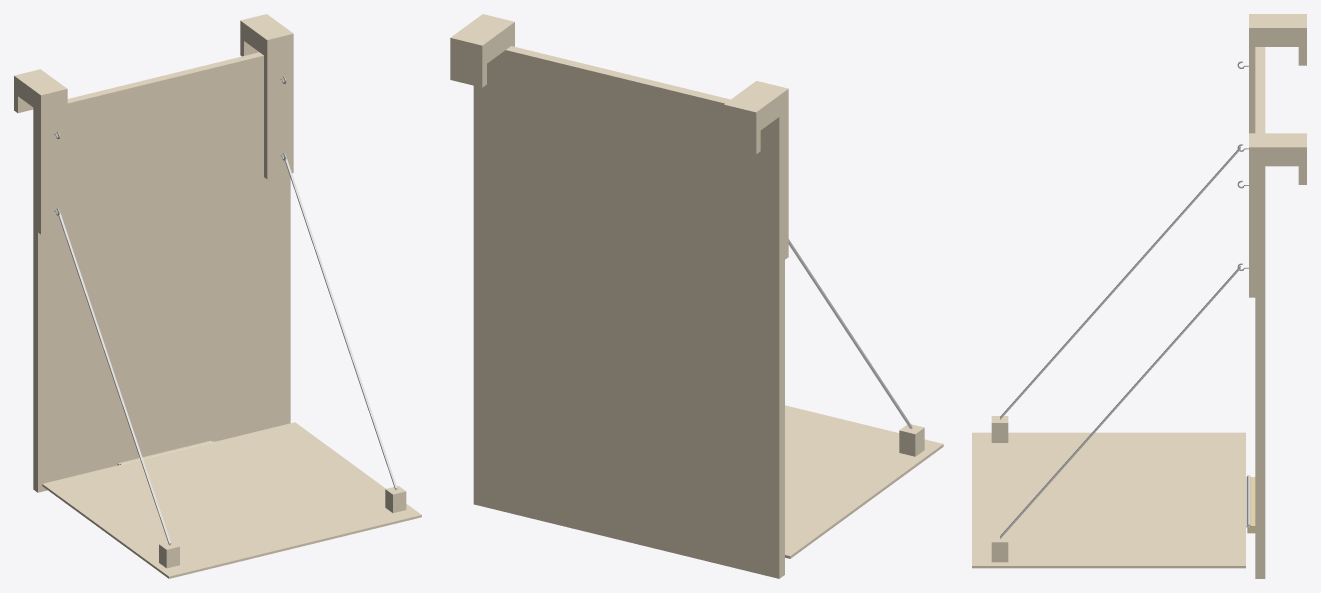
The model's file is object-project-hay-bag.glb.
3 renders of one model, left to right at view 1: azimuth 30°, elevation 25°; view 2: azimuth 150°, elevation 25°; view 3: azimuth 270°, elevation 25°, orthographic. The views are drawn at different scales.
Parts seen in each view (by area): view 1: Body1, Body2, Body4, Body3, Body2.001, Body1.001; view 2: Body1, Body2, Body4, Body3, Body2.001; view 3: Body2, Body1, Body3, Body4, Body2.001, Body1.001.
Part boxes in pixels (x1,y1,x2,y2): Body1: [33, 52, 290, 492]; Body2: [42, 422, 421, 578]; Body4: [14, 69, 67, 234]; Body3: [240, 14, 293, 179]; Body2.001: [57, 211, 171, 545]; Body1.001: [284, 156, 397, 490]; Body1: [473, 46, 784, 578]; Body2: [785, 405, 943, 558]; Body4: [724, 81, 788, 259]; Body3: [450, 14, 514, 87]; Body2.001: [788, 239, 912, 428]; Body2: [972, 416, 1245, 568]; Body1: [1255, 47, 1265, 578]; Body3: [1249, 133, 1306, 297]; Body4: [1249, 14, 1306, 133]; Body2.001: [1000, 146, 1240, 419]; Body1.001: [1000, 266, 1240, 538].
Size of the model in its own units: 3.25 by 4.91 by 3.45.
